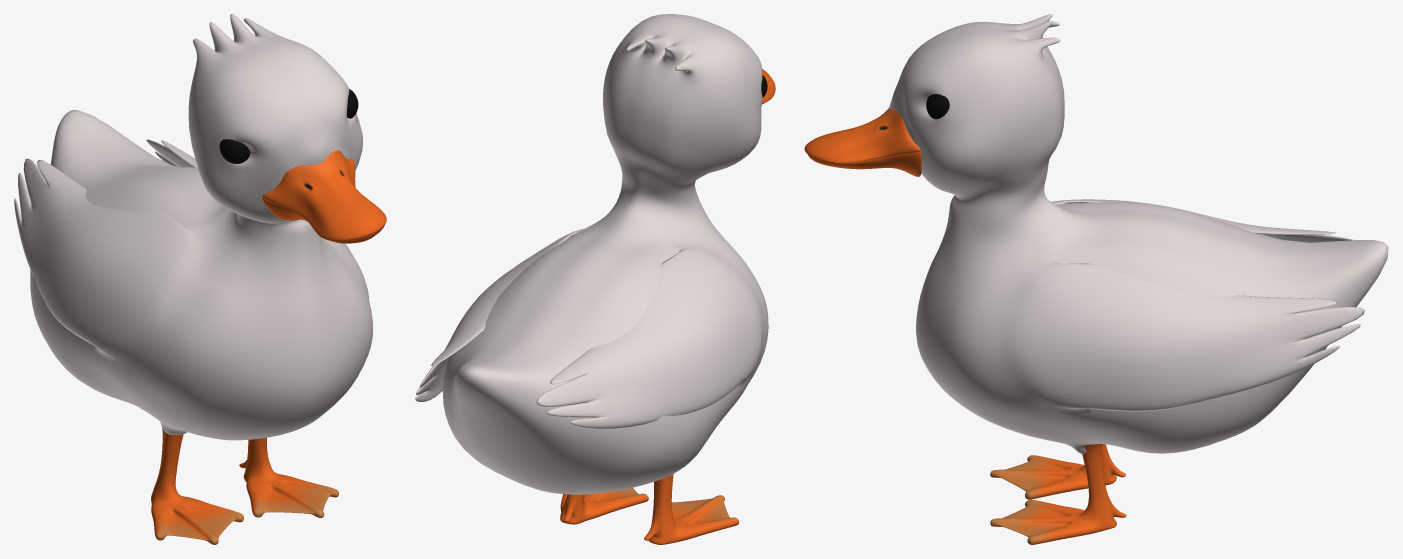
File: duck.glb
3 views of the same model, side by side, from view 1: azimuth 30°, elevation 25°; view 2: azimuth 150°, elevation 25°; view 3: azimuth 270°, elevation 25° (orthographic). The views are drawn at different scales.
Parts seen in each view (by area): view 1: Duck_v2_0_3; view 2: Duck_v2_0_3; view 3: Duck_v2_0_3.
Part boxes in pixels (x1=…): Duck_v2_0_3: x1=14, y1=14, x2=386, y2=544; Duck_v2_0_3: x1=415, y1=14, x2=775, y2=544; Duck_v2_0_3: x1=804, y1=14, x2=1388, y2=544.
Size of the model in its own units: 0.2343 by 0.4235 by 0.4658.
Materials: 3 (1 with a texture image).
